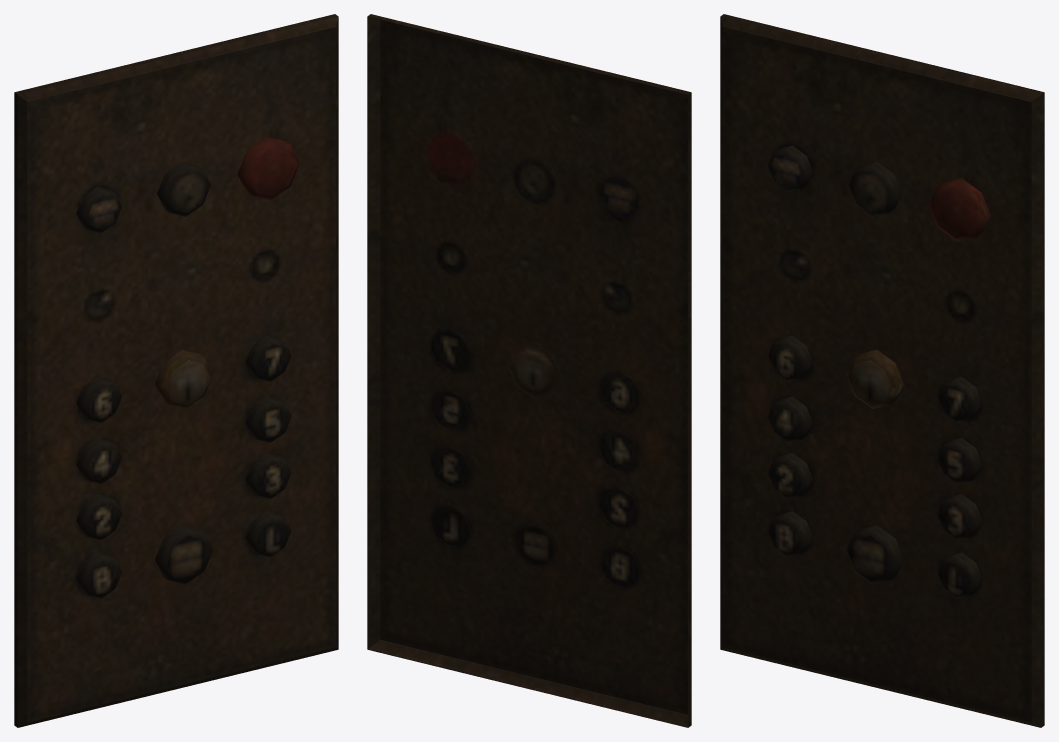
Rendered from elevator_buttons_1.fbx.
3 views of the same model, side by side, from view 1: azimuth 30°, elevation 25°; view 2: azimuth 150°, elevation 25°; view 3: azimuth 330°, elevation 25° (orthographic).
Visible parts, largest first — view 1: elevator_buttons_1; view 2: elevator_buttons_1; view 3: elevator_buttons_1.
Boxes of the visible parts, <box> form: elevator_buttons_1: <box>14,14,338,727</box>; elevator_buttons_1: <box>367,14,691,727</box>; elevator_buttons_1: <box>720,14,1044,727</box>.
Bounding box in the file's own units: 0.2652 × 0.0196 × 0.5.
